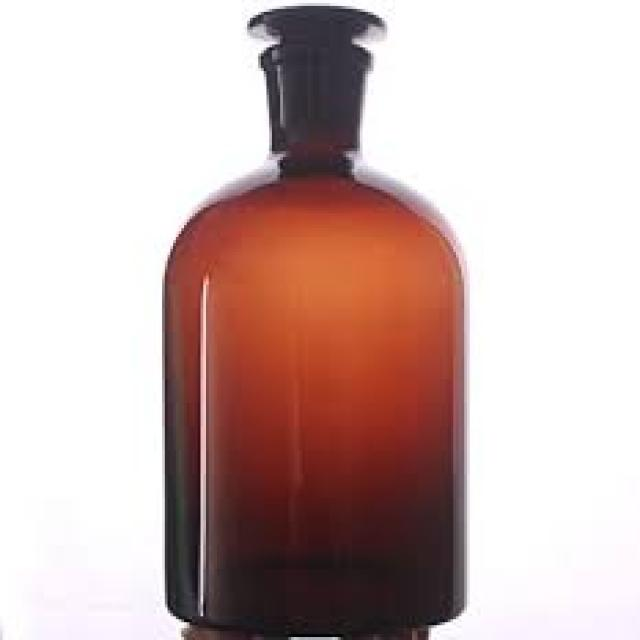glass: (162, 3, 464, 628)
